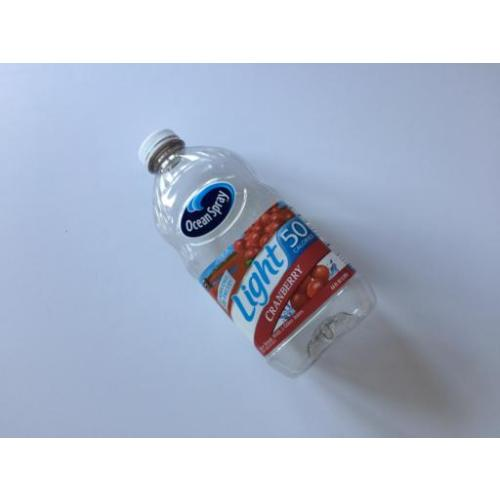plastic: (139, 131, 377, 376)
